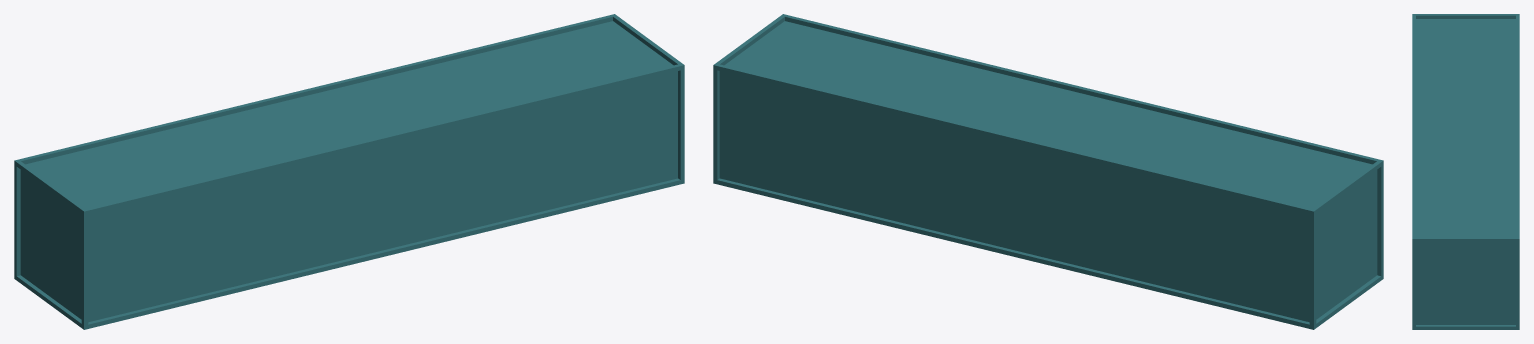
The model's file is container_stack_long.dae.
The picture shows the model from 3 angles, left to right: view 1: azimuth 30°, elevation 25°; view 2: azimuth 150°, elevation 25°; view 3: azimuth 270°, elevation 25°; orthographic projection. The views are drawn at different scales.
Parts seen in each view (by area): view 1: coords_ME_ID11_MA_Container_3, coords_ME_ID3_MA_Container_3, coords_ME_ID17_MA_Container_3; view 2: coords_ME_ID3_MA_Container_3, coords_ME_ID17_MA_Container_3; view 3: coords_ME_ID3_MA_Container_3, coords_ME_ID17_MA_Container_3.
Part boxes in pixels (x1,y1,x2,y2): coords_ME_ID11_MA_Container_3: (88, 70, 680, 324); coords_ME_ID3_MA_Container_3: (16, 17, 677, 323); coords_ME_ID17_MA_Container_3: (14, 14, 684, 329); coords_ME_ID3_MA_Container_3: (717, 17, 1381, 324); coords_ME_ID17_MA_Container_3: (713, 14, 1383, 329); coords_ME_ID3_MA_Container_3: (1416, 15, 1515, 326); coords_ME_ID17_MA_Container_3: (1412, 14, 1519, 329).
Bounding box in the file's own units: 146 × 27.5 × 29.4.
